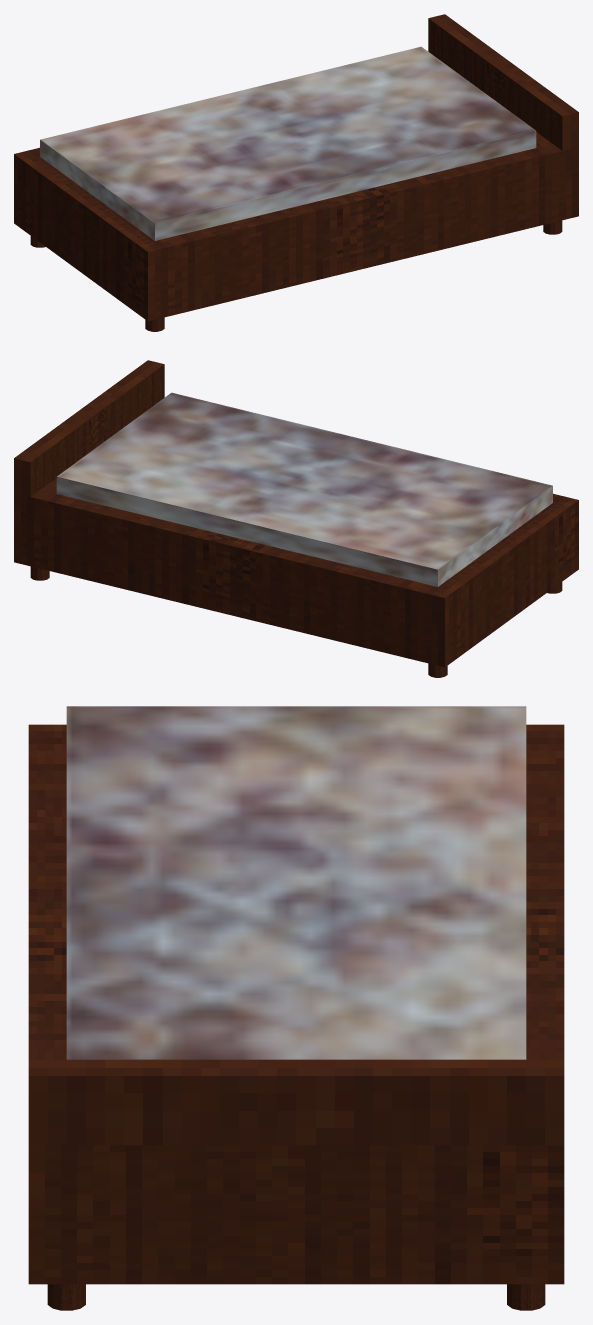
The model's file is Bed.fbx.
3 renders of one model, top to bottom at view 1: azimuth 30°, elevation 25°; view 2: azimuth 150°, elevation 25°; view 3: azimuth 270°, elevation 25°, orthographic. The views are drawn at different scales.
Visible parts, largest first — view 1: cube_2, cube, cube_1; view 2: cube_2, cube, cube_1; view 3: cube_2, cube, cube_1, cylinder, cylinder_1.
Part boxes in pixels (x1,y1,x2,y2): cube_2: (40, 46, 536, 240); cube: (14, 132, 578, 321); cube_1: (428, 14, 578, 150); cube_2: (56, 392, 552, 586); cube: (14, 478, 578, 667); cube_1: (14, 360, 164, 496); cube_2: (66, 706, 526, 1059); cube: (28, 724, 564, 1284); cube_1: (28, 1059, 564, 1145); cylinder: (47, 1284, 85, 1310); cylinder_1: (507, 1284, 545, 1310).
Bounding box in the file's own units: 81.25 × 21.88 × 43.75.
Materials: 2 (2 with a texture image).
